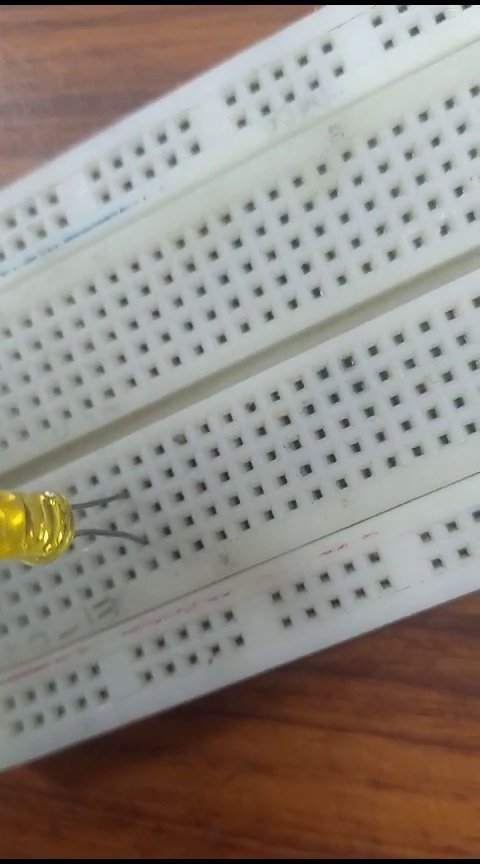LED: (3, 477, 162, 569)
